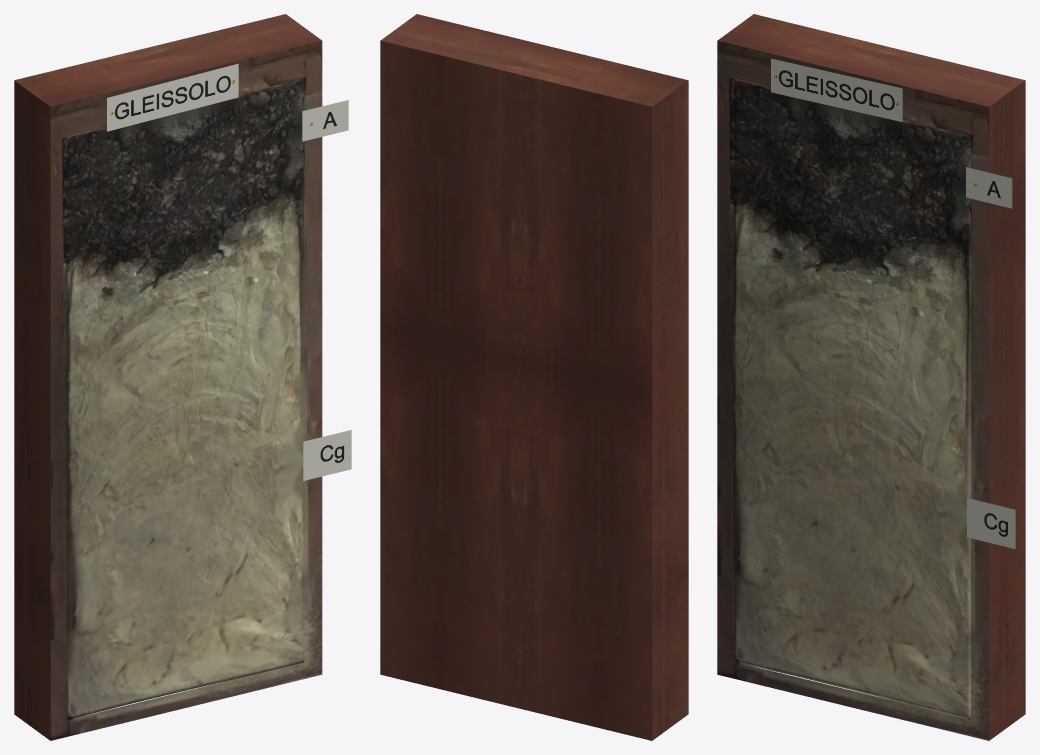
File: perfil_11_06_gleissolo.glb
3 views of the same model, side by side, from view 1: azimuth 30°, elevation 25°; view 2: azimuth 150°, elevation 25°; view 3: azimuth 330°, elevation 25° (orthographic).
Visible parts, largest first — view 1: Solo_11_06, Madeira_11_06, Moldura_11_06, Rotulos_11_06; view 2: Madeira_11_06; view 3: Solo_11_06, Madeira_11_06, Moldura_11_06, Rotulos_11_06.
Boxes of the visible parts, left/top/right/bottom form: Solo_11_06: left=66, top=79, right=304, bottom=719; Madeira_11_06: left=14, top=14, right=321, bottom=740; Moldura_11_06: left=50, top=40, right=322, bottom=740; Rotulos_11_06: left=107, top=63, right=351, bottom=480; Madeira_11_06: left=380, top=14, right=688, bottom=740; Solo_11_06: left=732, top=78, right=970, bottom=719; Madeira_11_06: left=718, top=14, right=1025, bottom=740; Moldura_11_06: left=717, top=40, right=989, bottom=740; Rotulos_11_06: left=771, top=58, right=1015, bottom=548.
Bounding box in the file's own units: 0.3475 × 0.7025 × 0.0808.
4 materials, 4 textured.
